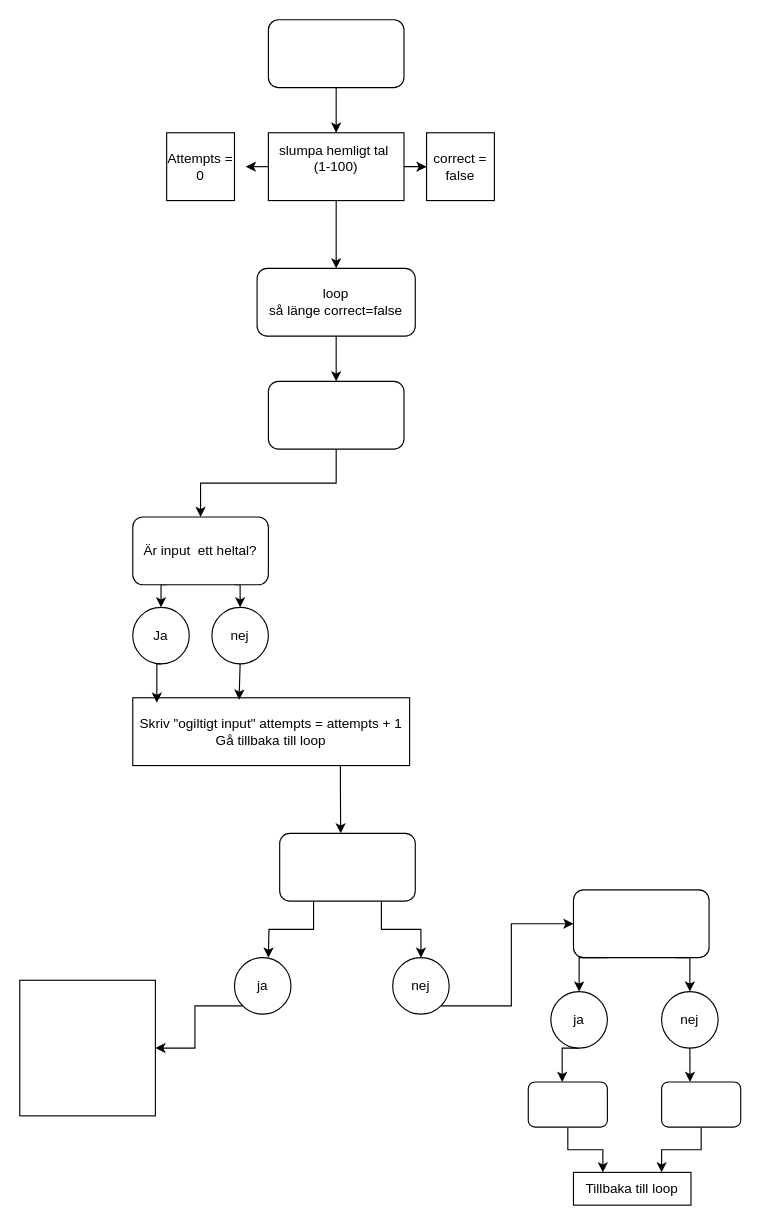
This 760x1225 diagram has some shape labels left out. Each missing label, with the box of its shape:
läs in gissning från användare: (267, 380, 404, 449)
Skriv "För högt": (660, 1081, 741, 1127)
Skriv "För lågt": (527, 1081, 607, 1127)
Skriv "Rätt tal!" Skriv antal försök Sätt correct = true: (19, 979, 155, 1116)
start: (267, 19, 404, 88)
Är guess < secretnumber?: (572, 889, 709, 958)
Är guess == secrenumber?: (279, 832, 415, 901)
